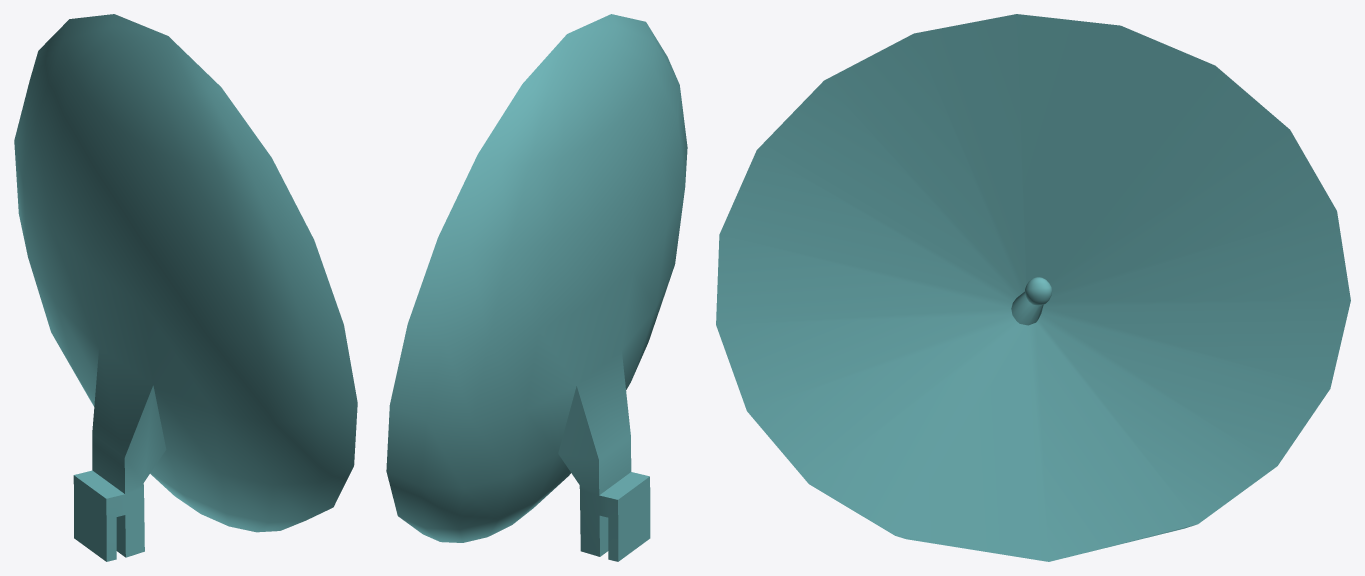
File: FBX_Parabole.fbx
3 views of the same model, side by side, from view 1: azimuth 30°, elevation 25°; view 2: azimuth 150°, elevation 25°; view 3: azimuth 270°, elevation 25° (orthographic). The views are drawn at different scales.
Parts seen in each view (by area): view 1: Sphere003; view 2: Sphere003; view 3: Sphere003.
Boxes of the visible parts, left/top/right/bottom form: Sphere003: left=14, top=14, right=357, bottom=561; Sphere003: left=386, top=14, right=687, bottom=561; Sphere003: left=716, top=14, right=1350, bottom=561.
Size of the model in its own units: 0.8415 by 2.75 by 3.01.
